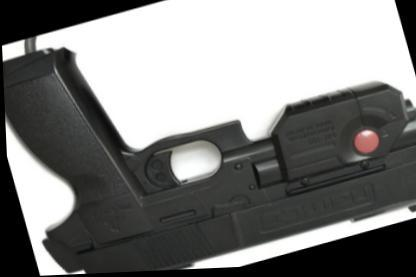pistol: (0, 0, 416, 275)
